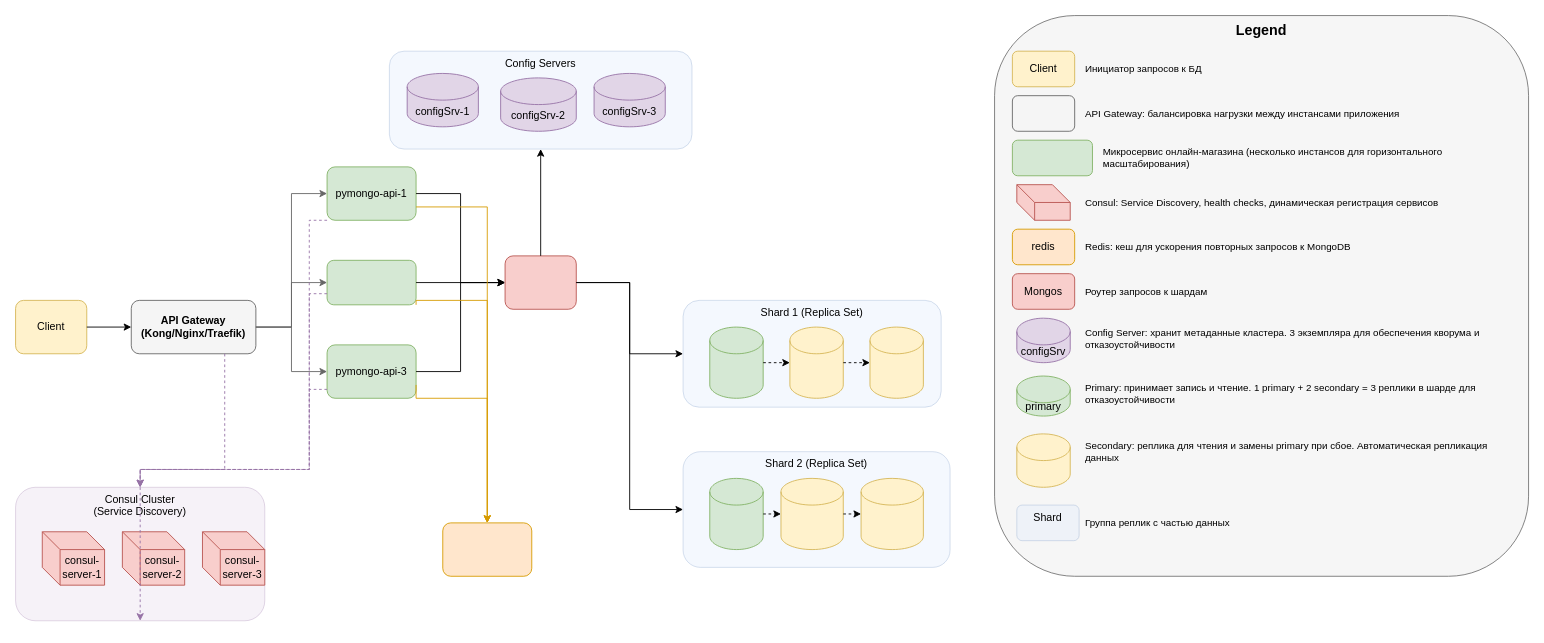
The diagram is 1544 pixels wide and 643 high, and some of its shapes have lost their labels. Here are the shapes that lost their labels. From the top down, the centre of each, then its label:
At pixel 1051 157: "pymongo-api-N".
At pixel 371 282: "pymongo-api-2".
At pixel 540 282: "Mongos (Router)".
At pixel 736 362: "shard1-1 (primary)".
At pixel 816 362: "shard1-2 (secondary)".
At pixel 896 362: "shard1-3 (secondary)".
At pixel 1043 460: "secondary".
At pixel 736 513: "shard2-1 (primary)".
At pixel 811 513: "shard2-2 (secondary)".
At pixel 891 513: "shard2-3 (secondary)".
At pixel 487 549: "Redis (Cache)".
